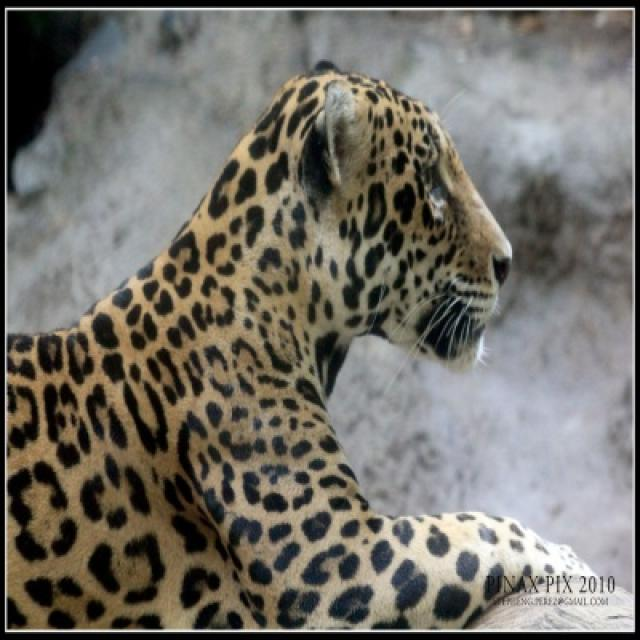Jaguar: (2, 64, 606, 634)
